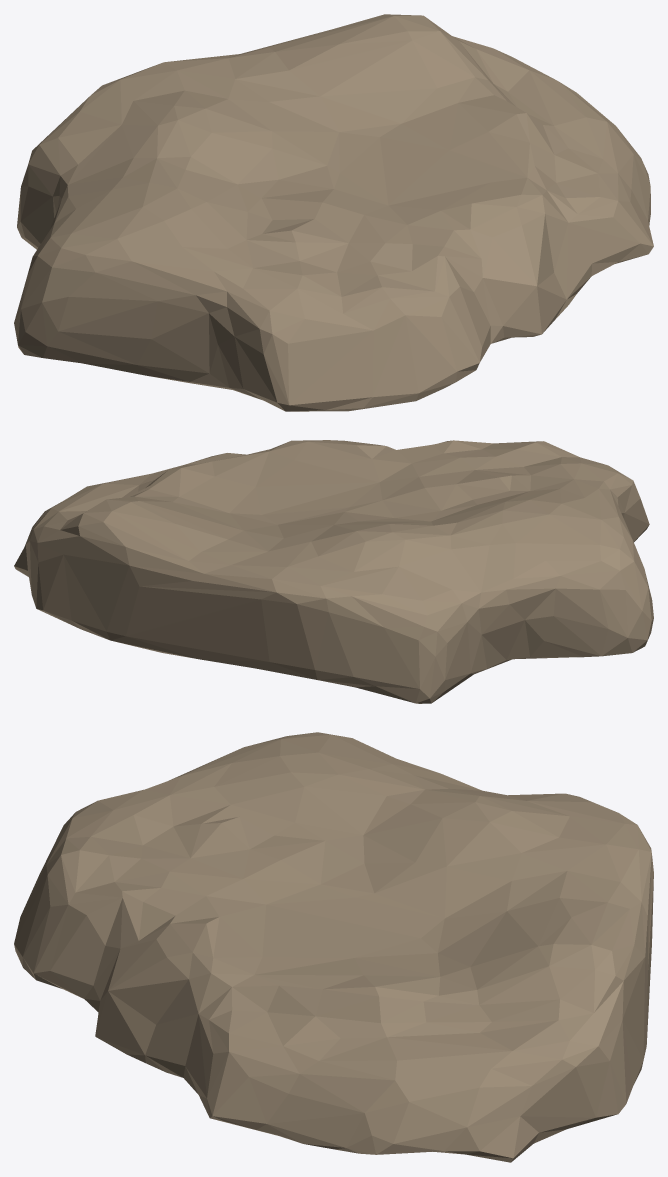
File: Ground.fbx
3 views of the same model, one above another, from view 1: azimuth 30°, elevation 25°; view 2: azimuth 150°, elevation 25°; view 3: azimuth 270°, elevation 25° (orthographic). The views are drawn at different scales.
Visible parts, largest first — view 1: Ground; view 2: Ground; view 3: Ground.
Boxes of the visible parts, x1,y1,x2,y2 form: Ground: (14, 14, 653, 411); Ground: (14, 440, 653, 703); Ground: (14, 732, 653, 1162).
Bounding box in the file's own units: 2999 × 612 × 2381.
